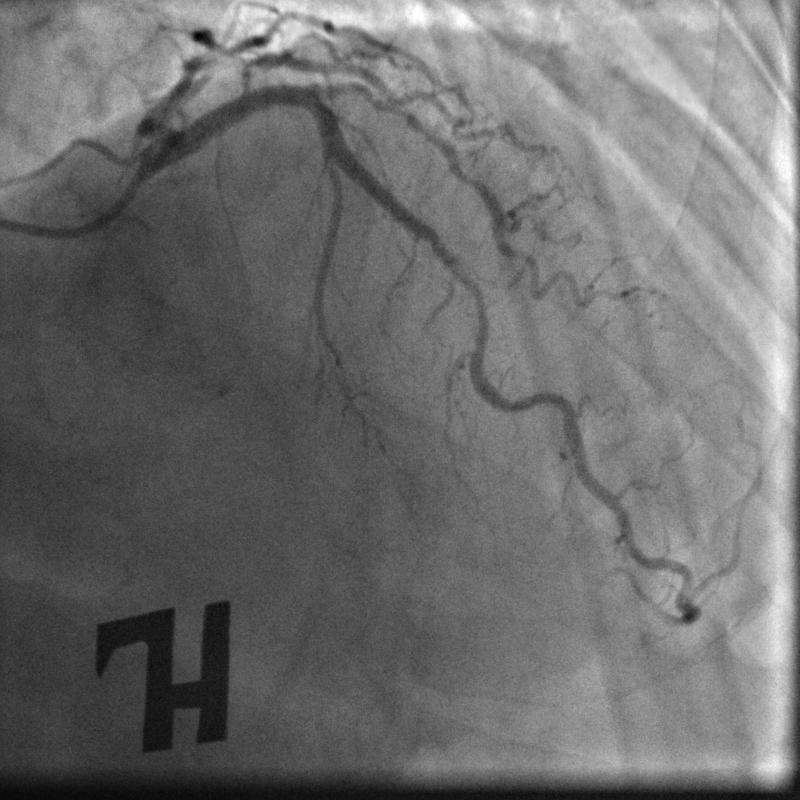Stenosis: (446, 272, 483, 342)
